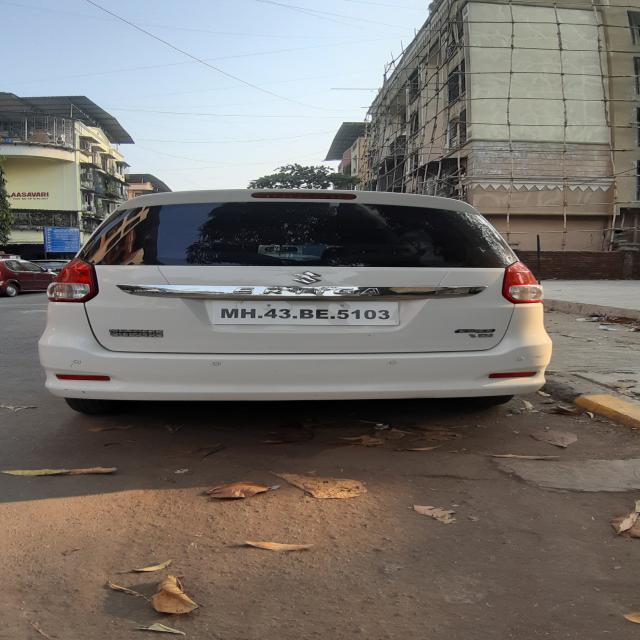Number-Plate: (207, 300, 400, 326)
